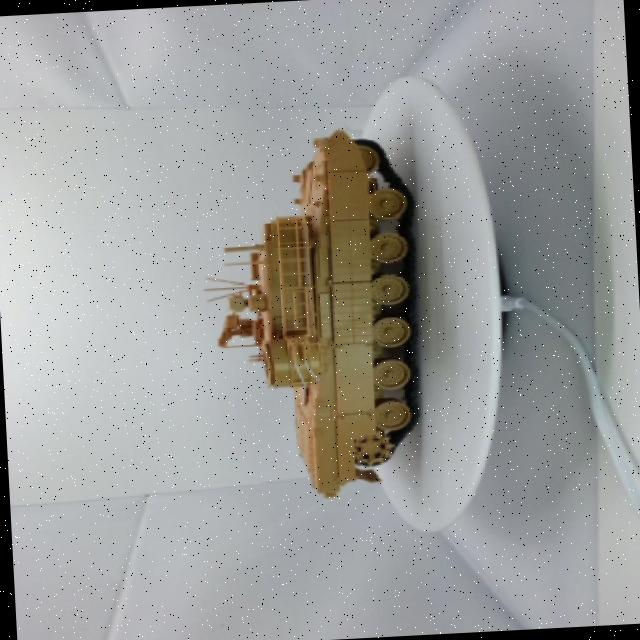korea tank: (162, 107, 470, 530)
